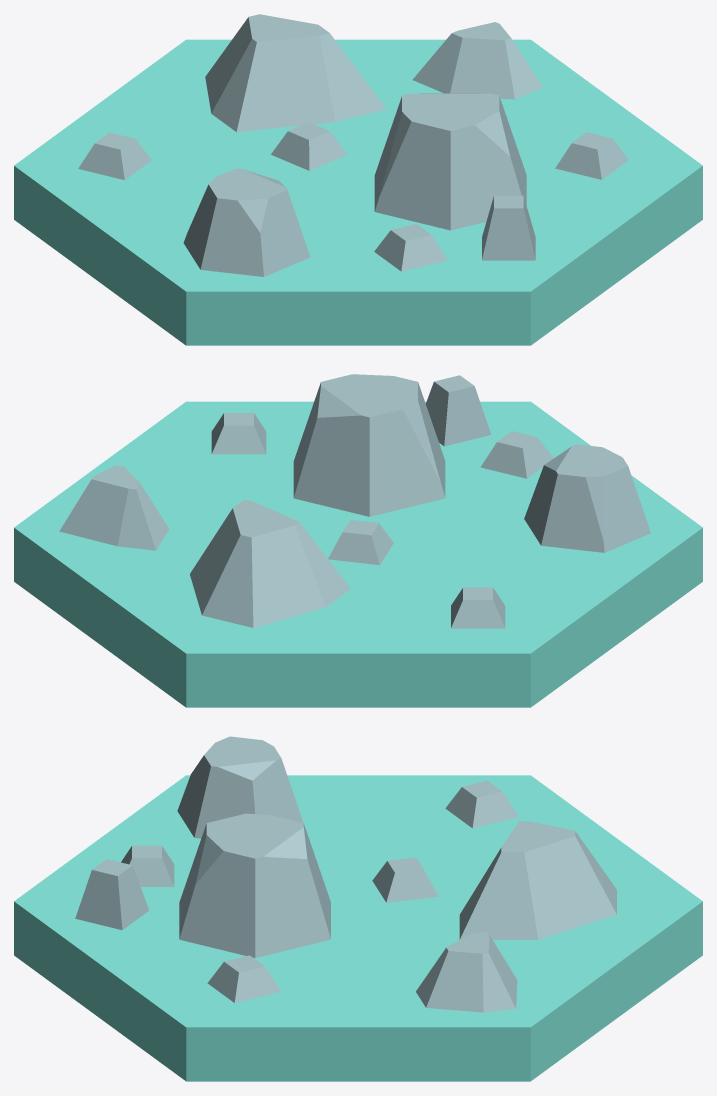
File: water_rocks.fbx
The picture shows the model from 3 angles, top to bottom: view 1: azimuth 30°, elevation 25°; view 2: azimuth 150°, elevation 25°; view 3: azimuth 270°, elevation 25°; orthographic projection.
Visible parts, largest first — view 1: water_rocks, rockLarge (×4), rock (×5); view 2: water_rocks, rockLarge (×4), rock (×5); view 3: water_rocks, rockLarge (×4), rock (×5).
Boxes of the visible parts, <box> form: water_rocks: <box>14,39,702,345</box>; rockLarge (×4): <box>183,14,542,276</box>; rock (×5): <box>78,122,628,271</box>; water_rocks: <box>14,401,702,707</box>; rockLarge (×4): <box>59,374,650,627</box>; rock (×5): <box>211,375,553,628</box>; water_rocks: <box>14,775,702,1081</box>; rockLarge (×4): <box>177,736,616,1012</box>; rock (×5): <box>75,780,518,1002</box>.
Size of the model in its own units: 10 by 2.59 by 11.55.
